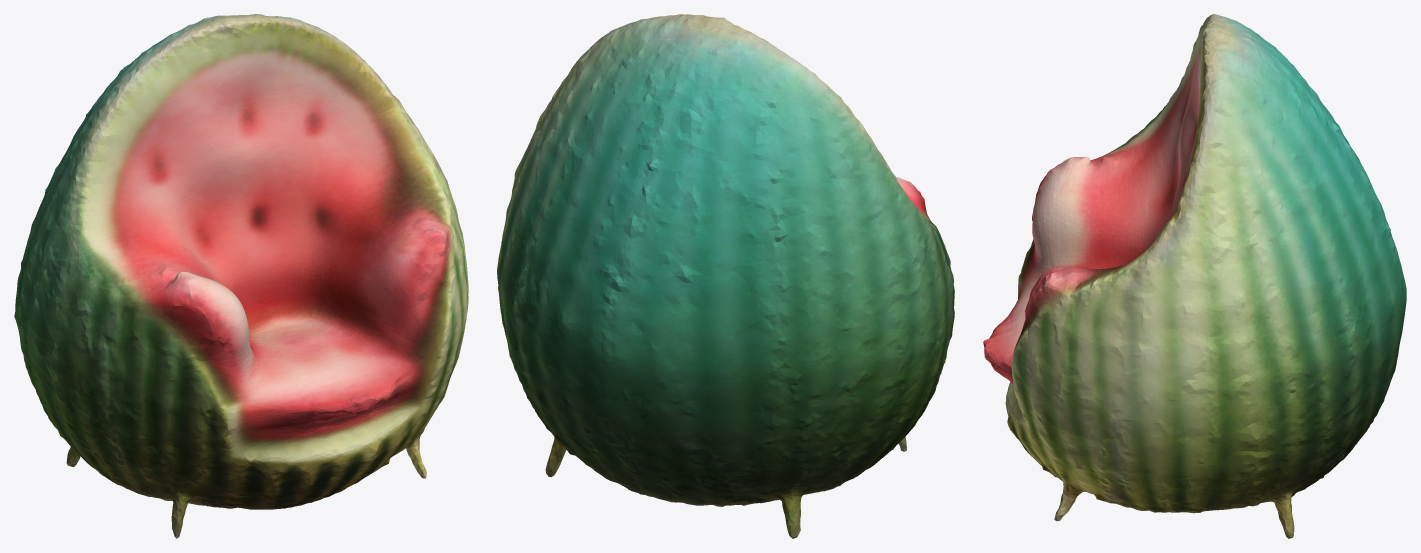
The model's file is chairwatermelon.glb.
3 renders of one model, left to right at view 1: azimuth 30°, elevation 25°; view 2: azimuth 150°, elevation 25°; view 3: azimuth 270°, elevation 25°, orthographic. The views are drawn at different scales.
Size of the model in its own units: 0.9635 by 1.03 by 0.8768.
1 material, 1 textured.
